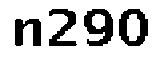0: (118, 4, 149, 49)
2: (47, 6, 79, 52)
9: (80, 6, 114, 51)
n: (12, 16, 43, 53)
